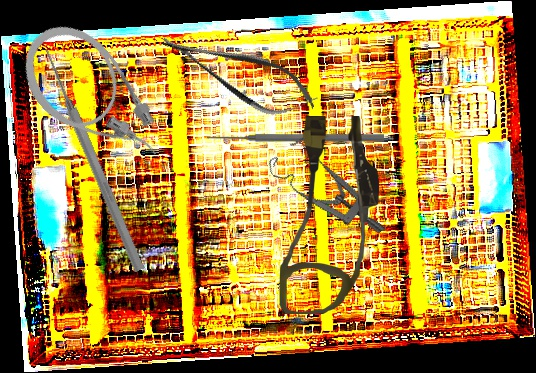Cannula: (4, 7, 179, 191), (279, 116, 379, 314)
Micro Scissor: (152, 14, 325, 132)
Pusher: (39, 46, 148, 274), (207, 132, 384, 143)
Speculum: (263, 124, 386, 265)
